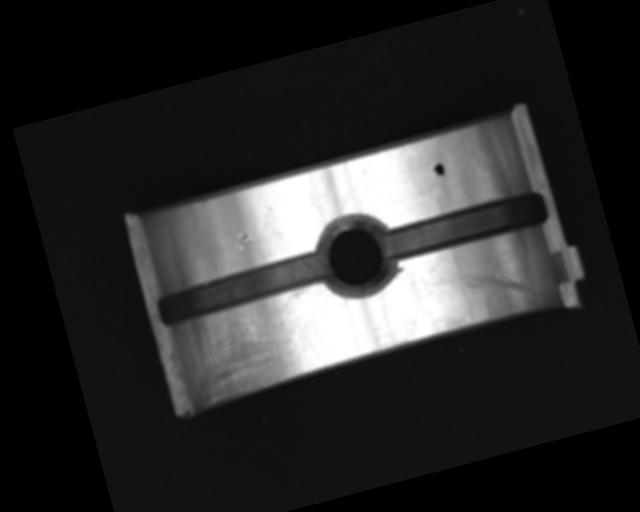blot: (432, 161, 447, 180)
bruise: (231, 229, 254, 252)
gap: (150, 248, 332, 332), (380, 187, 551, 265)
hole: (308, 208, 406, 304)
nick: (420, 243, 544, 329)
scratch: (178, 287, 328, 410)
